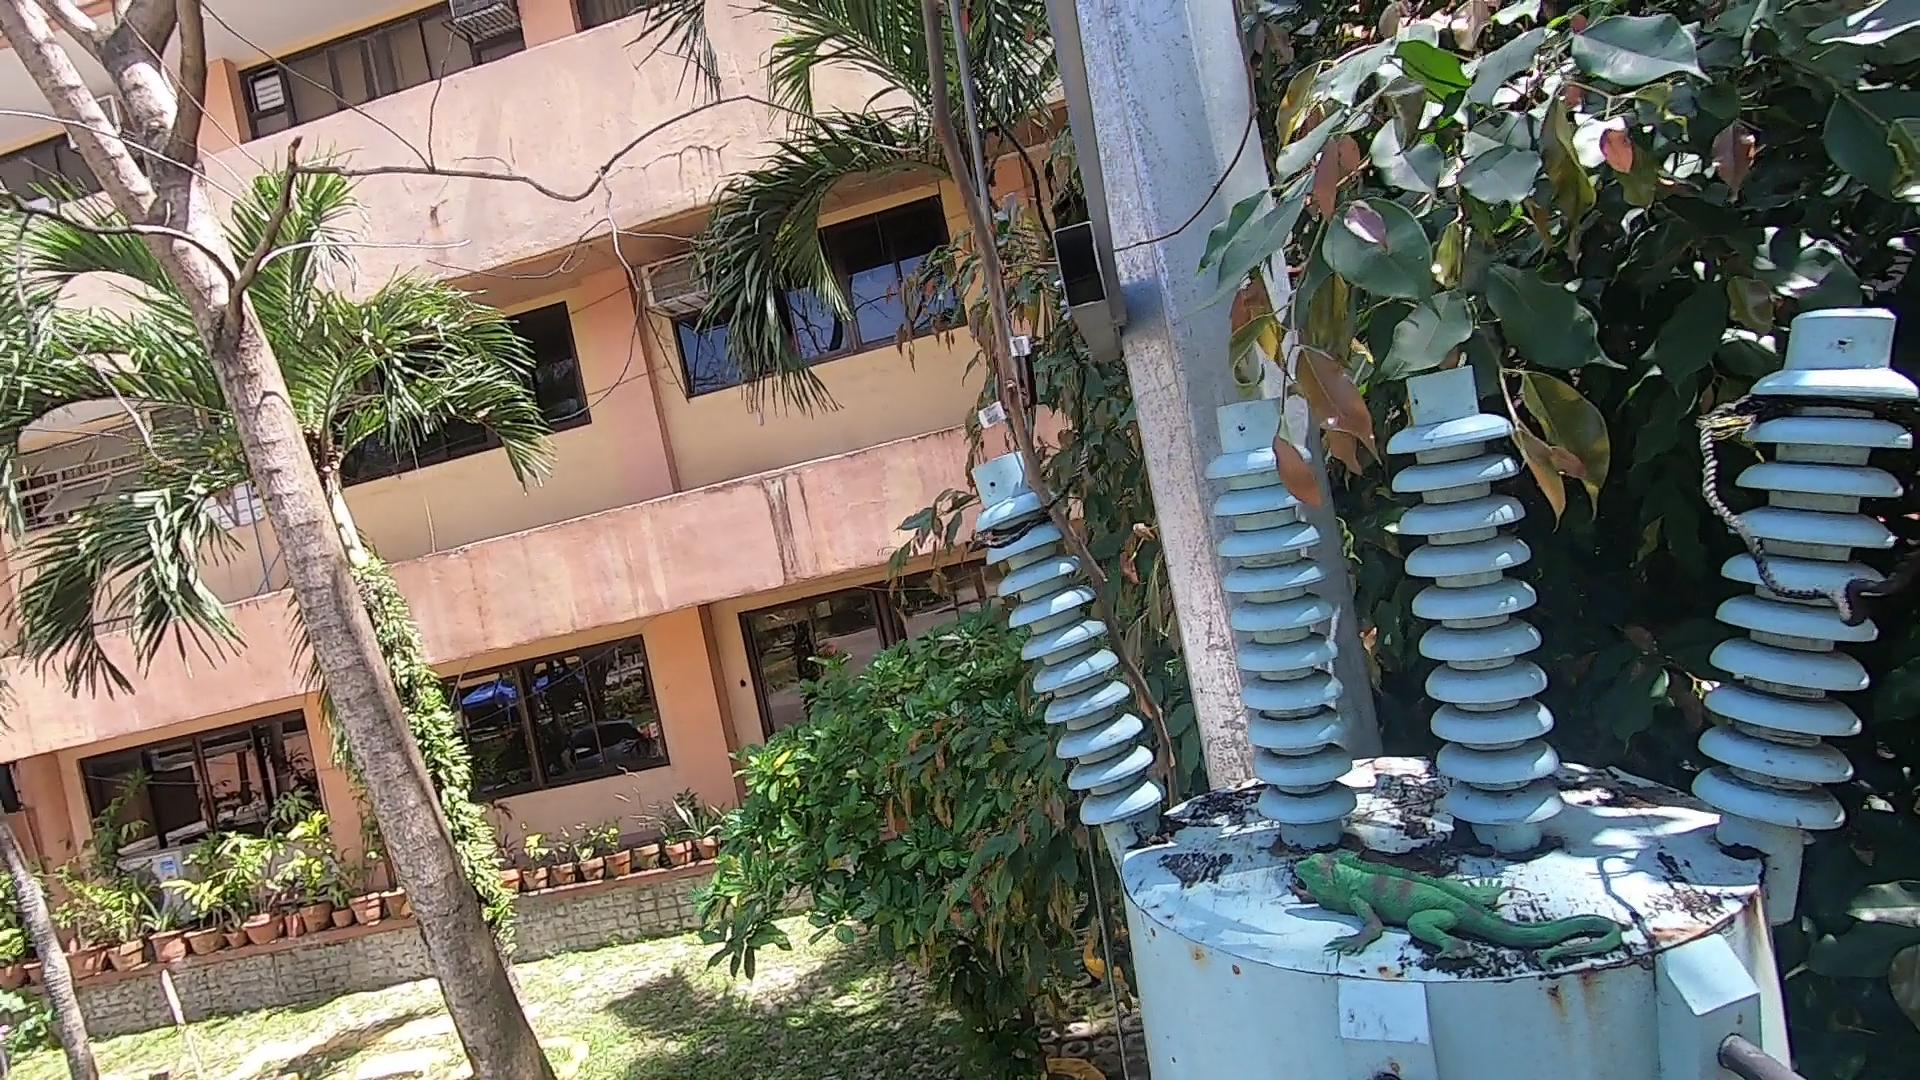branch with leaves: (1233, 207, 1651, 531)
leaf: (1371, 829, 1510, 877), (1592, 767, 1710, 819), (1135, 819, 1176, 852)
tree branch: (884, 15, 1203, 822)
